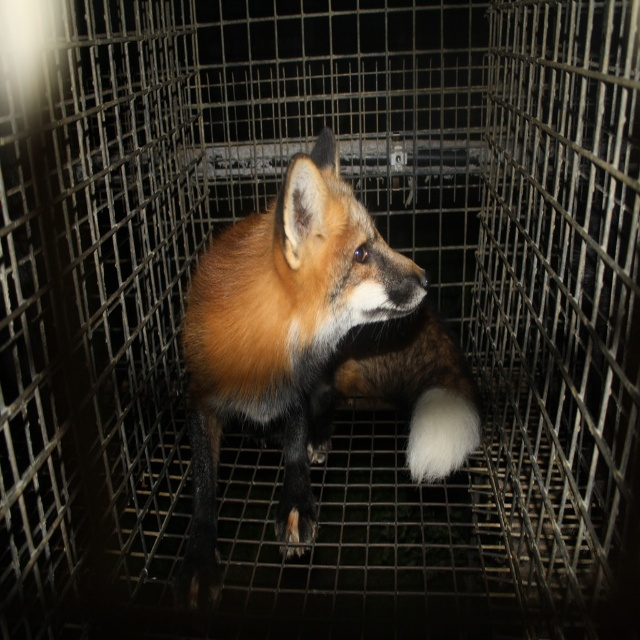Fox: (177, 125, 482, 605)
